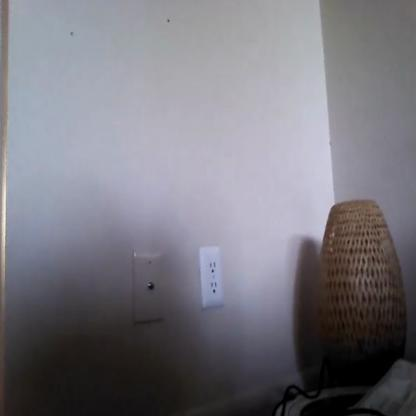OUTLET: (198, 247, 223, 306)
